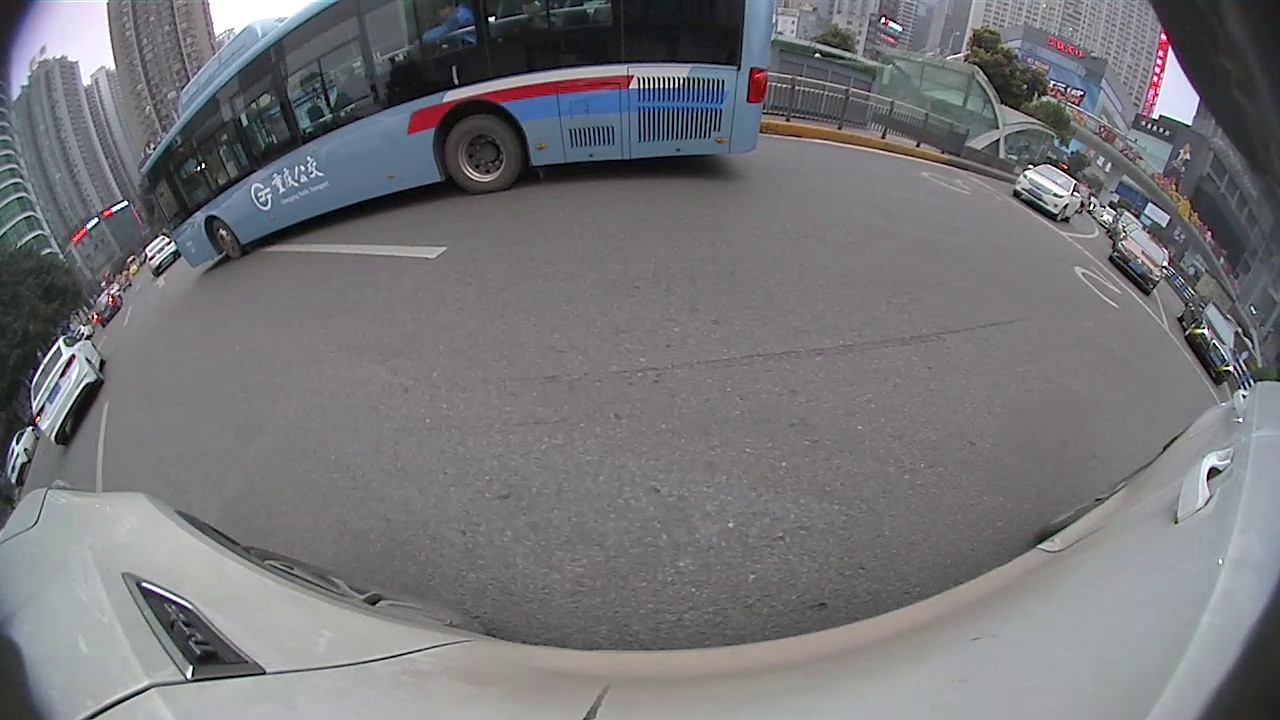bus: (139, 1, 776, 269)
car: (29, 333, 106, 445), (1178, 297, 1243, 388), (1108, 221, 1168, 295), (1012, 163, 1083, 224), (4, 424, 41, 486), (143, 233, 180, 278), (1107, 207, 1146, 244), (91, 289, 124, 328)
front: (209, 223, 248, 262), (1053, 203, 1071, 227), (1177, 321, 1200, 339)
rear: (441, 112, 527, 193), (85, 357, 108, 385)
